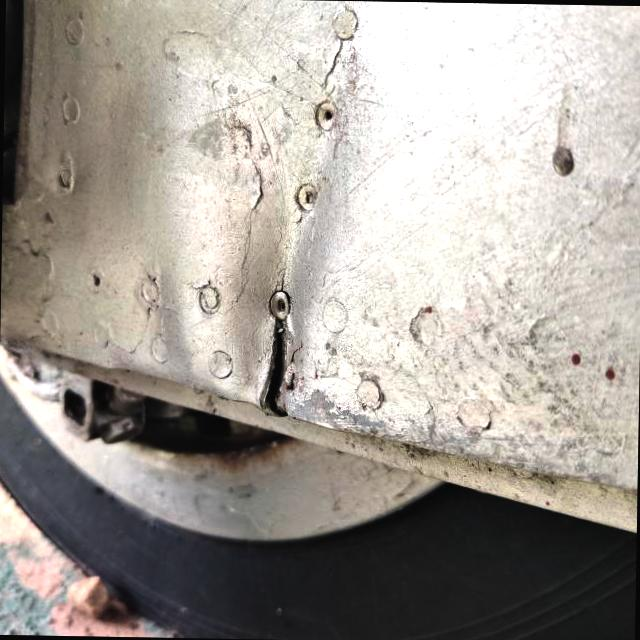crack: (222, 306, 318, 426)
